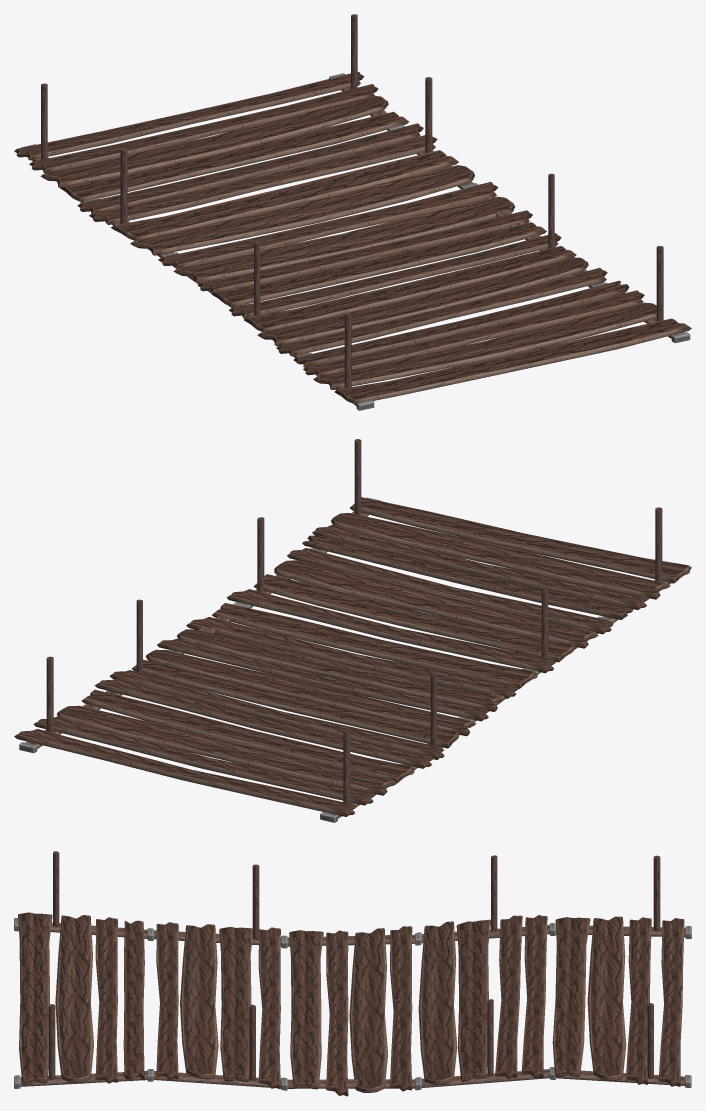
The model's file is Bridge.fbx.
The picture shows the model from 3 angles, top to bottom: view 1: azimuth 30°, elevation 25°; view 2: azimuth 150°, elevation 25°; view 3: azimuth 270°, elevation 25°; orthographic projection. The views are drawn at different scales.
Parts seen in each view (by area): view 1: Conector_low24; view 2: Conector_low24; view 3: Conector_low24.
Part boxes in pixels (x1,y1,x2,y2): Conector_low24: (14,14,691,410); Conector_low24: (14,439,691,822); Conector_low24: (14,851,691,1096).
Size of the model in its own units: 192 by 48.15 by 330.
